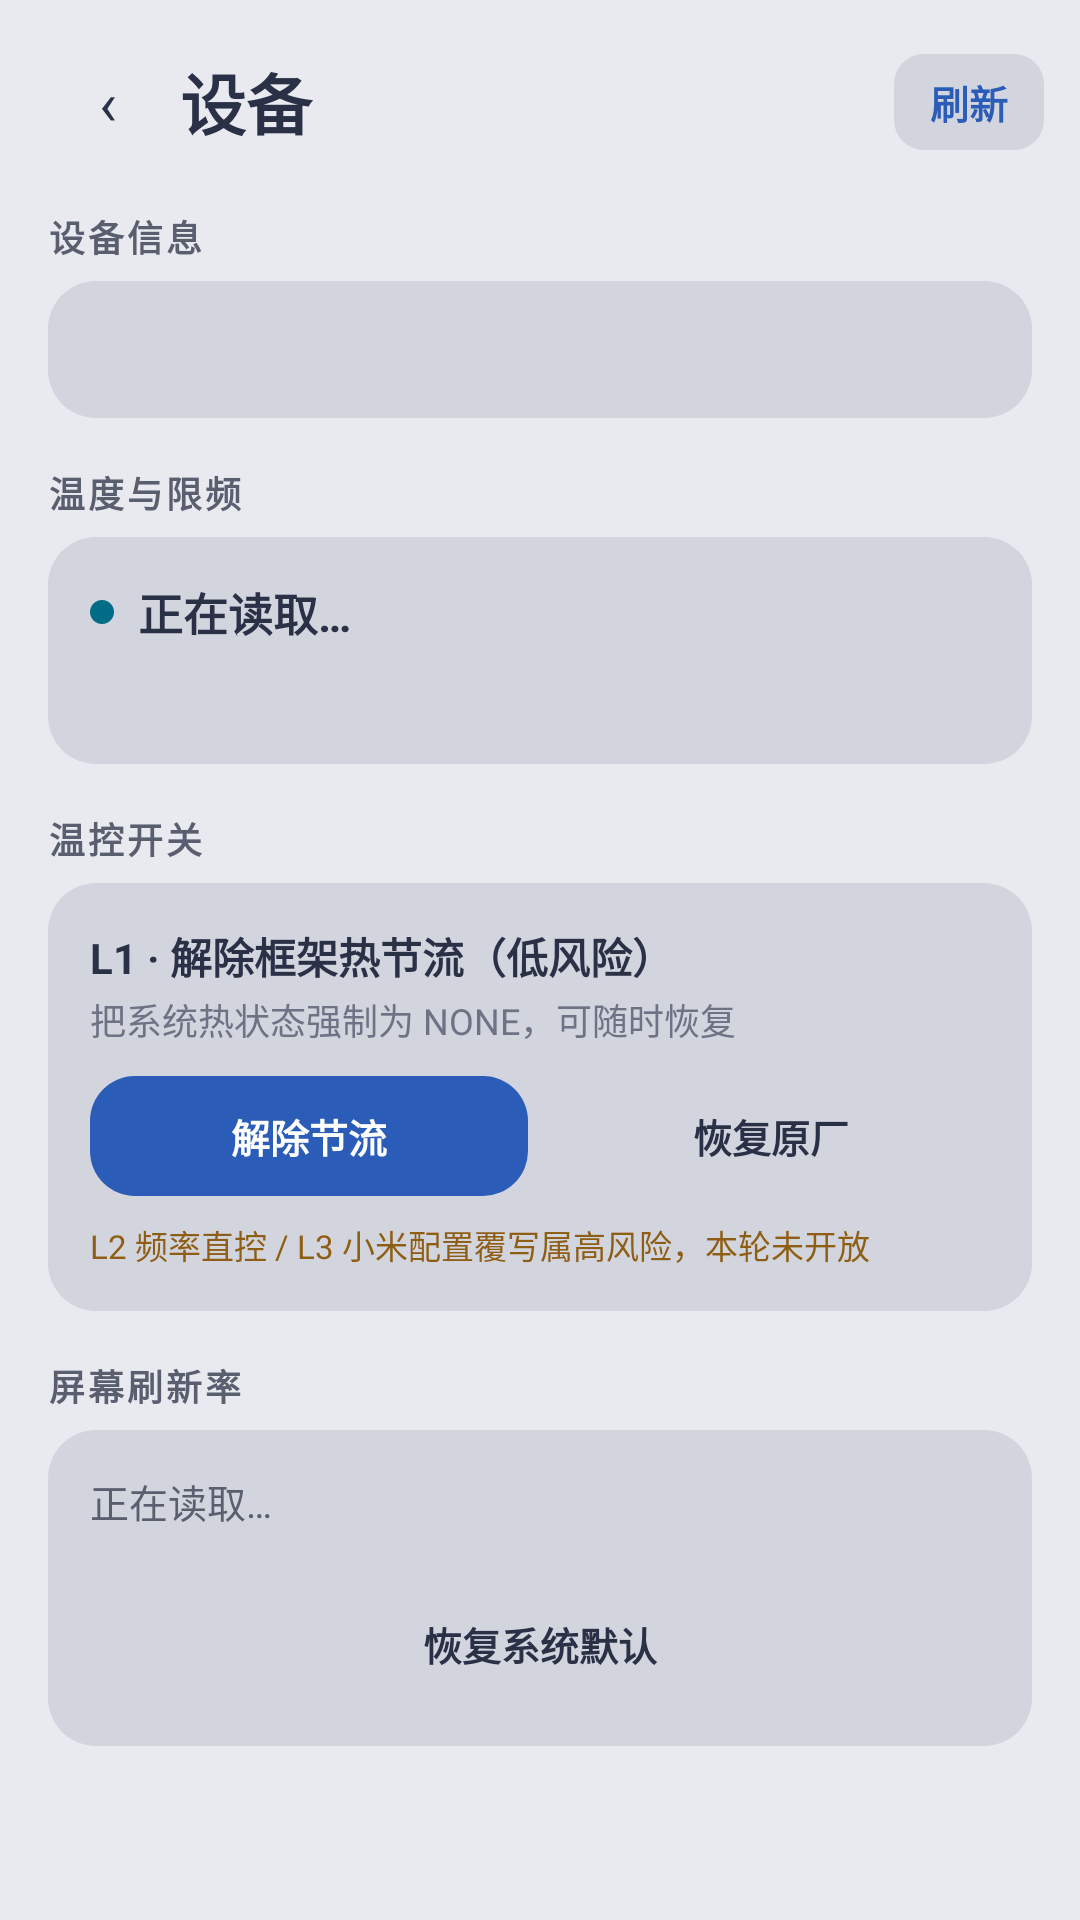

Locate icon controls on the screen. Image size 1080 x 1920, boxes as [x1,y1,x2,y2].
dot running: [90,600,114,624]
